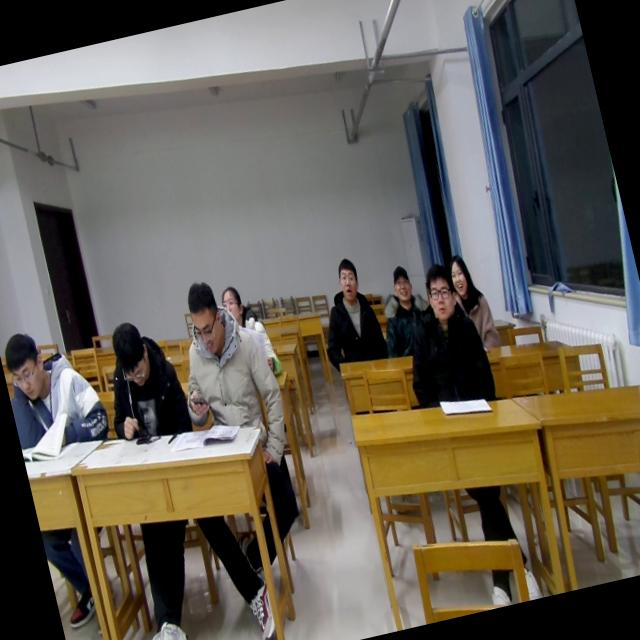bow: (0, 317, 114, 459)
down: (178, 274, 232, 360), (103, 310, 154, 392), (0, 326, 50, 409)
lookup: (416, 256, 460, 328), (442, 248, 477, 302), (332, 254, 364, 306), (216, 282, 248, 325), (388, 262, 417, 308)
sit: (158, 269, 288, 441), (387, 257, 498, 415), (90, 315, 192, 448), (306, 250, 389, 370), (217, 276, 284, 386), (442, 248, 504, 358), (372, 263, 438, 356)
